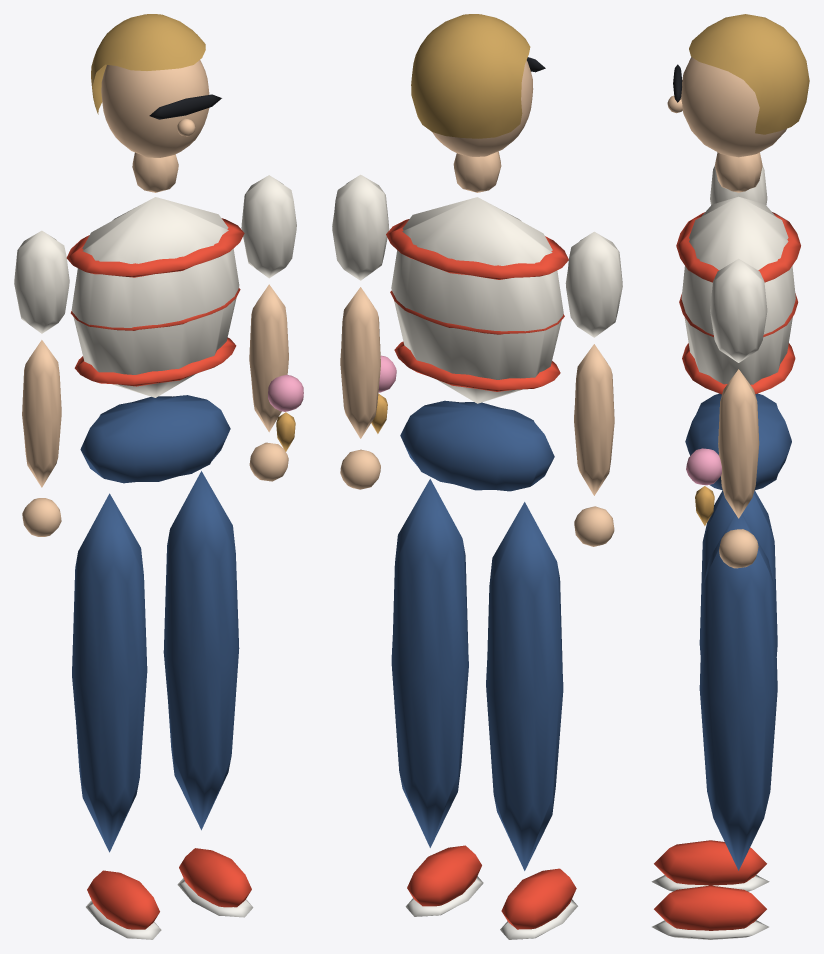
The model's file is getkong-hhped5.glb.
3 views of the same model, side by side, from view 1: azimuth 30°, elevation 25°; view 2: azimuth 150°, elevation 25°; view 3: azimuth 270°, elevation 25° (orthographic). The views are drawn at different scales.
Parts seen in each view (by area): view 1: rumpf, beinL, beinR, kopf, armR, armL; view 2: rumpf, beinR, beinL, kopf, armR, armL; view 3: beinR, rumpf, kopf, armR, beinL, armL.
Boxes of the visible parts, x1,y1,x2,y2 form: rumpf: [66, 152, 244, 483]; beinL: [72, 493, 161, 939]; beinR: [163, 471, 253, 917]; kopf: [91, 14, 221, 157]; armR: [241, 175, 303, 481]; armL: [14, 230, 69, 536]; rumpf: [386, 151, 568, 491]; beinR: [391, 479, 483, 916]; beinL: [486, 502, 577, 939]; kopf: [411, 14, 545, 156]; armR: [332, 174, 396, 489]; armL: [565, 231, 622, 546]; beinR: [652, 514, 777, 939]; rumpf: [676, 152, 800, 490]; kopf: [667, 14, 809, 157]; armR: [686, 258, 767, 568]; beinL: [651, 490, 777, 891]; armL: [710, 166, 767, 204].
Bounding box in the file's own units: 0.5718 × 1.74 × 0.2807.
